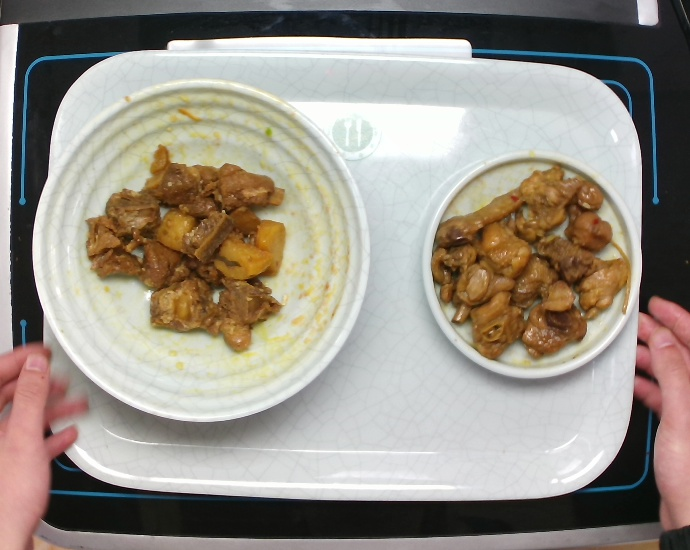JYsf-Da_Tang_Wan: (27, 68, 380, 428)
JYsf-Xiao_Yuan_Pan: (412, 144, 644, 385)
